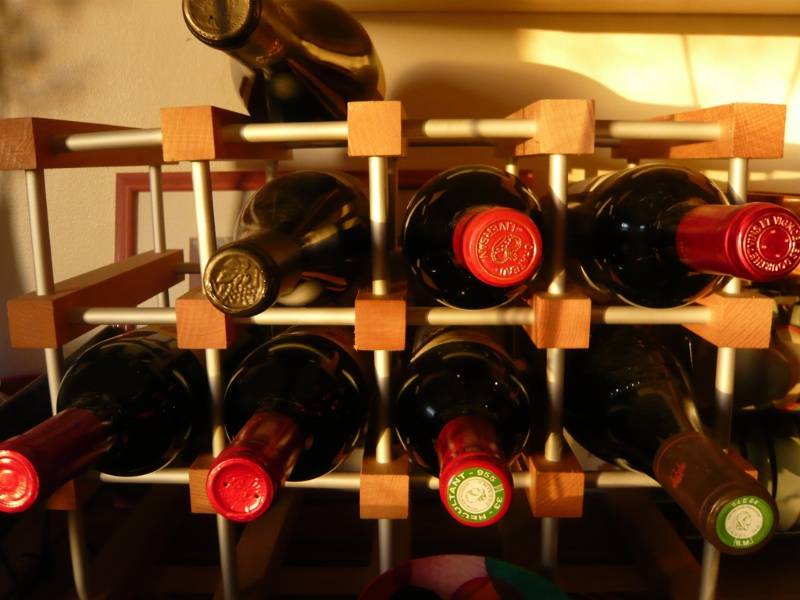wine: (1, 1, 798, 566)
